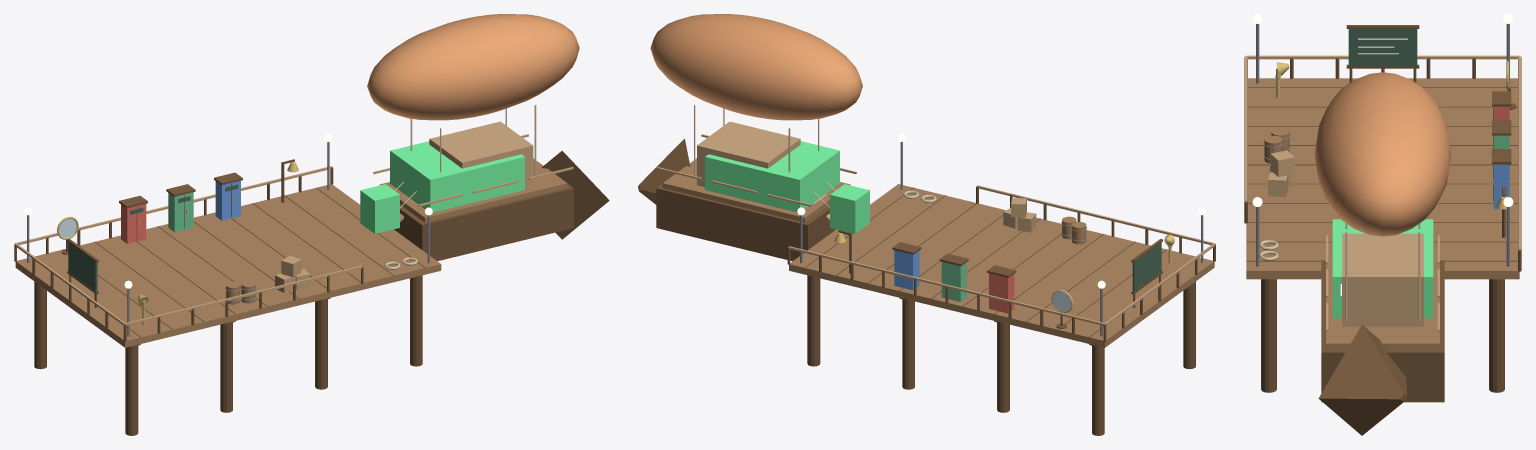
Rendered from waiting_room.glb.
3 views of the same model, side by side, from view 1: azimuth 30°, elevation 25°; view 2: azimuth 150°, elevation 25°; view 3: azimuth 270°, elevation 25° (orthographic). The views are drawn at different scales.
Parts seen in each view (by area): view 1: col_dock_floor, ship_balloon, ship_hull, trigger_deck, ship_cabin, col_ship_deck, ship_bow, trigger_gangplank_check, dock_pillar_-9_-5, dock_pillar_9_-5, dock_pillar_3_-5, dock_pillar_-3_-5 (+7 smaller); view 2: col_dock_floor, ship_balloon, ship_hull, trigger_deck, ship_cabin, col_ship_deck, trigger_gangplank_check, dock_pillar_9_5, ship_bow, col_rail_back, dock_pillar_3_5, dock_pillar_-9_5 (+7 smaller); view 3: col_dock_floor, ship_balloon, ship_cabin, ship_bow, ship_hull, col_ship_deck, station_room_board, trigger_deck, dock_pillar_9_5, dock_pillar_9_-5, col_rail_left, col_rail_back (+11 smaller).
Part boxes in pixels (x1,y1,x2,y2): col_dock_floor: (15,184,441,347); ship_balloon: (367,14,579,120); ship_hull: (394,183,573,261); trigger_deck: (390,141,524,212); ship_cabin: (429,121,533,186); col_ship_deck: (379,158,567,222); ship_bow: (541,151,609,239); trigger_gangplank_check: (360,184,399,233); dock_pillar_-9_-5: (125,345,138,435); dock_pillar_9_-5: (410,275,422,366); dock_pillar_3_-5: (315,298,327,389); dock_pillar_-3_-5: (220,321,232,412); col_dock_floor: (789,184,1214,347); ship_balloon: (650,14,862,120); ship_hull: (656,184,835,261); trigger_deck: (705,141,839,212); ship_cabin: (697,121,800,186); col_ship_deck: (662,158,850,222); trigger_gangplank_check: (830,184,869,233); dock_pillar_9_5: (807,275,820,366); ship_bow: (638,138,690,204); col_rail_back: (788,246,1104,325); dock_pillar_3_5: (902,298,914,389); dock_pillar_-9_5: (1092,344,1104,435); col_dock_floor: (1246,78,1519,279); ship_balloon: (1314,72,1451,236); ship_cabin: (1342,233,1423,326); ship_bow: (1318,324,1407,435); ship_hull: (1321,260,1444,402); col_ship_deck: (1326,257,1439,349); station_room_board: (1348,29,1417,65); trigger_deck: (1332,219,1433,318); dock_pillar_9_5: (1489,279,1504,392); dock_pillar_9_-5: (1261,279,1276,392); col_rail_left: (1246,55,1519,59); col_rail_back: (1518,56,1521,250).
Size of the model in its own units: 32.64 by 17 by 12.16.
